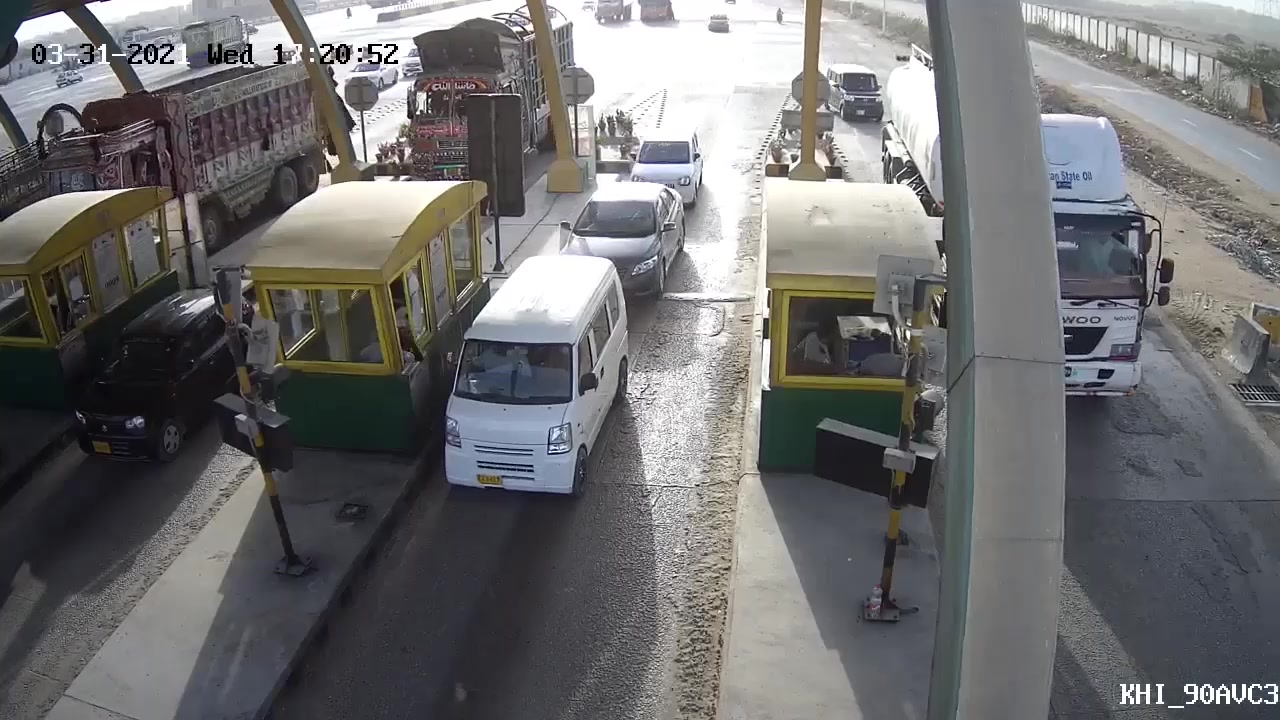F6: (435, 253, 635, 499)
